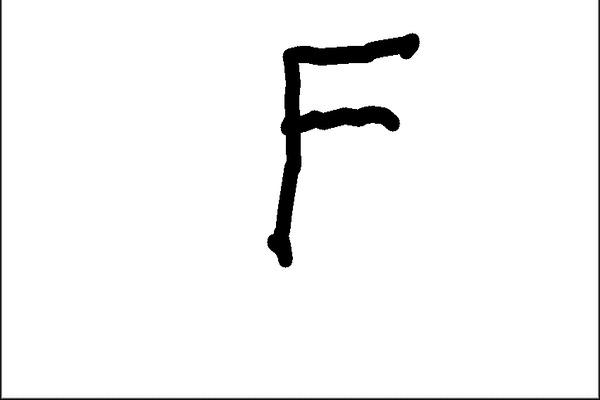F: (259, 28, 422, 270)
